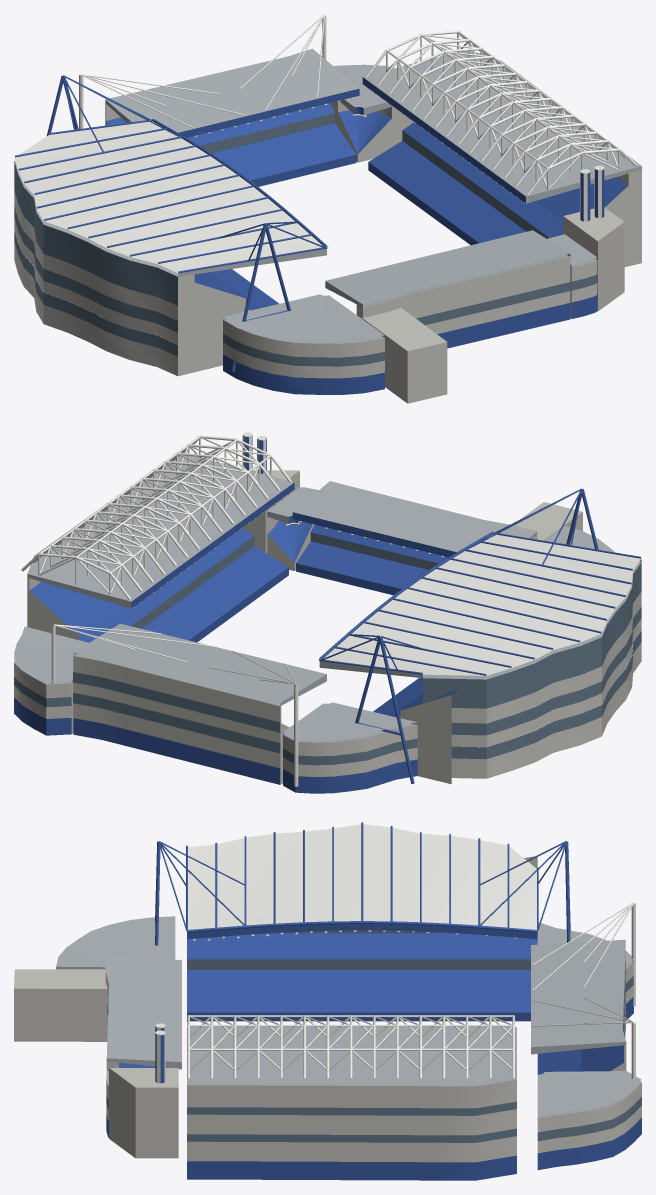
The model's file is london-stamford-bridge.detail.glb.
The picture shows the model from 3 angles, top to bottom: view 1: azimuth 30°, elevation 25°; view 2: azimuth 150°, elevation 25°; view 3: azimuth 270°, elevation 25°; orthographic projection.
Visible parts, largest first — view 1: Stamford Bridge; view 2: Stamford Bridge; view 3: Stamford Bridge.
Part boxes in pixels (<box>): Stamford Bridge: <box>14,14,641,403</box>; Stamford Bridge: <box>14,432,641,793</box>; Stamford Bridge: <box>14,822,641,1180</box>.
Bounding box in the file's own units: 180 × 48.81 × 189.
